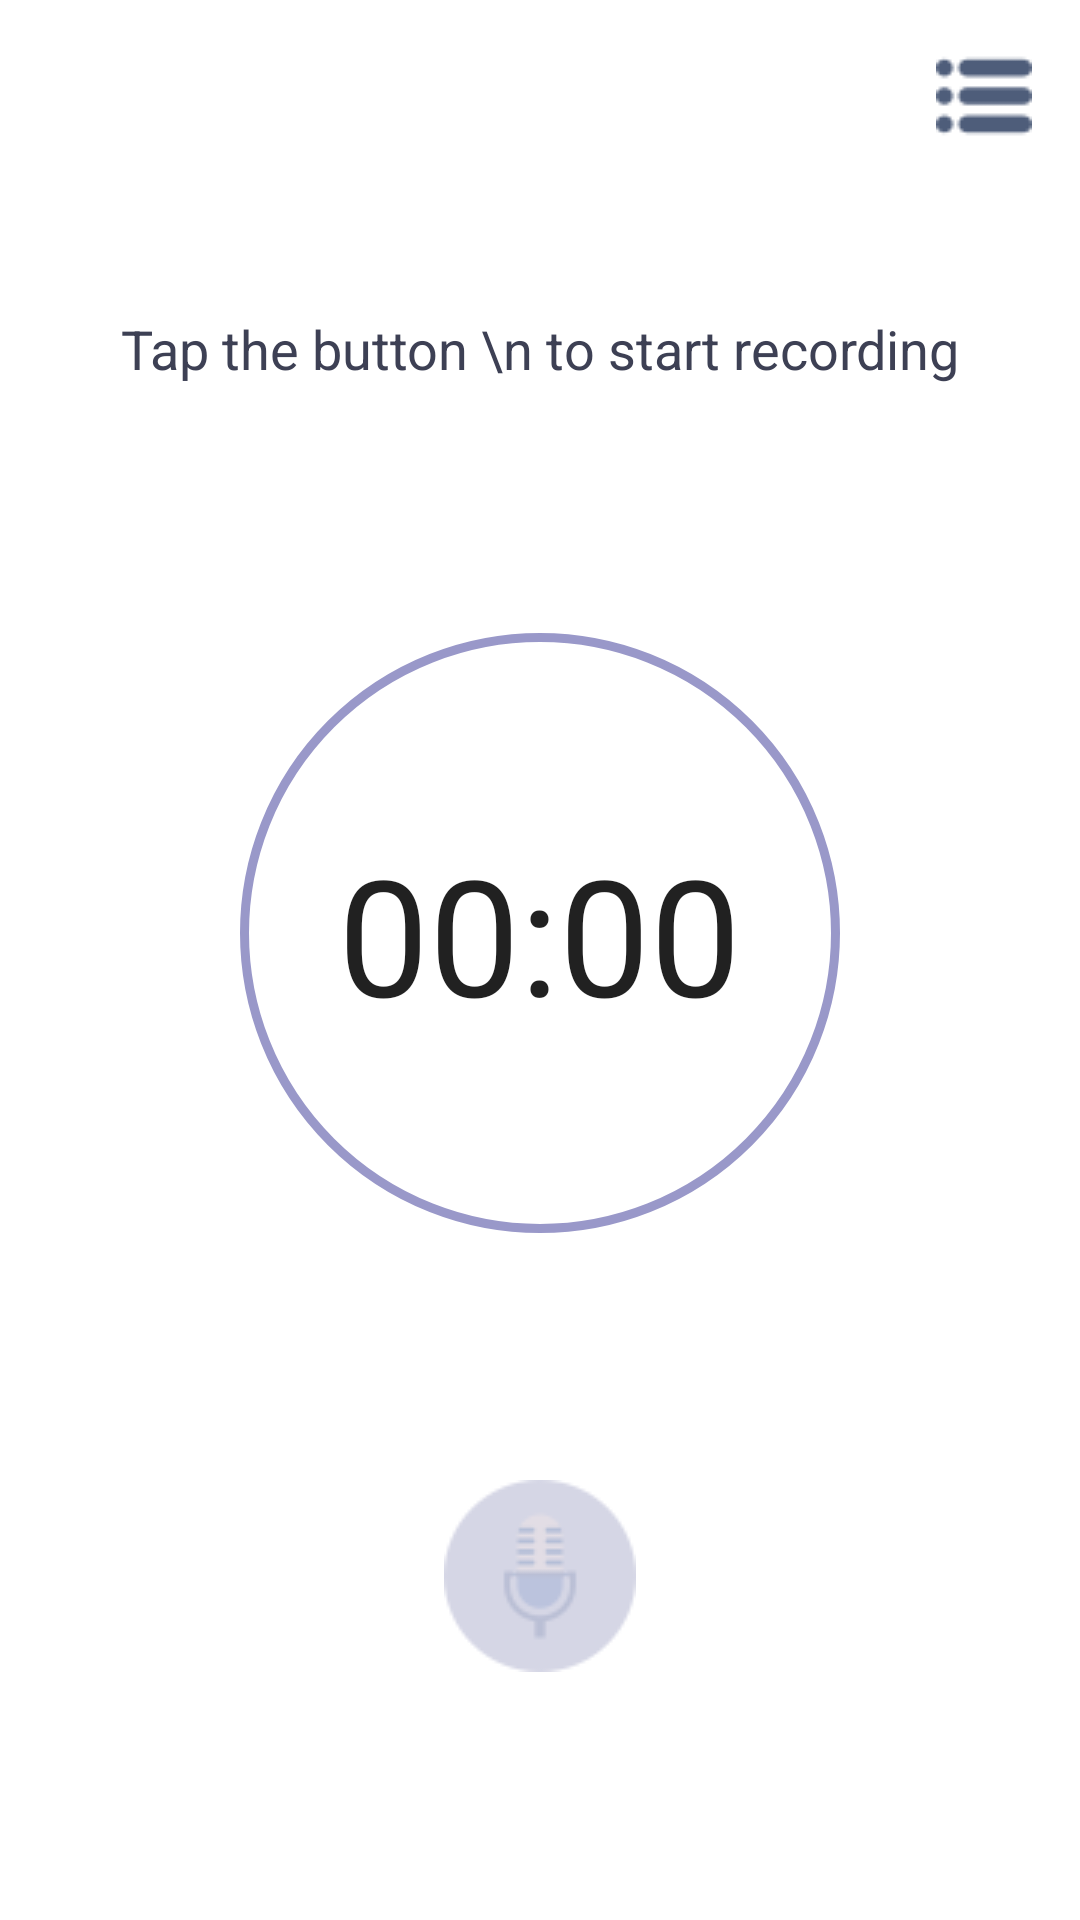

Icon bounding boxes for this 1080px×1920px phone screenshot, format (left=x1, top=y1, right=x2, bottom=y2):
menu: (left=936, top=58, right=1032, bottom=134)
microphone: (left=444, top=1480, right=636, bottom=1672)
